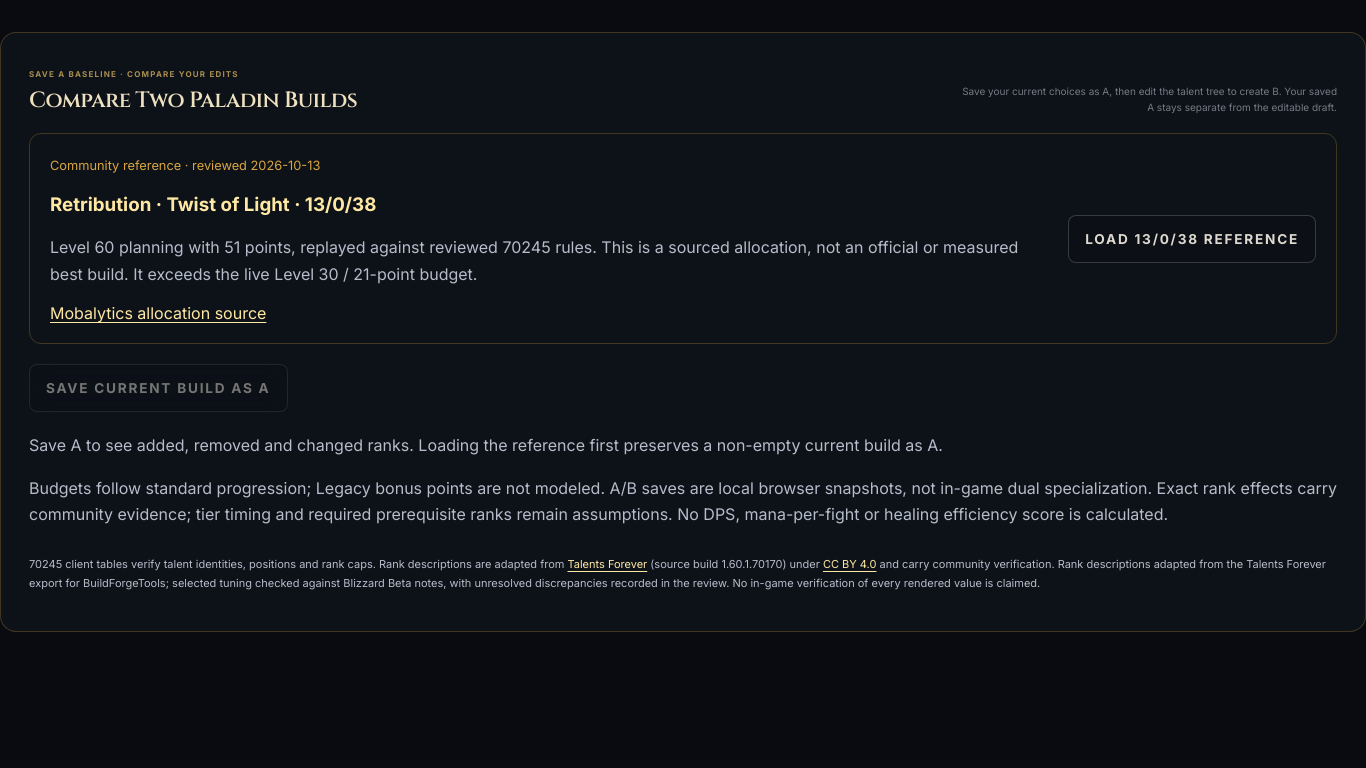
Test: does not re-label a reference whose reviewed dataset differs from the current tree
This screenshot has width=1366, height=768.
Click the button "Load 13/0/38 reference" at (1192, 239), box [1068,215,1316,263]
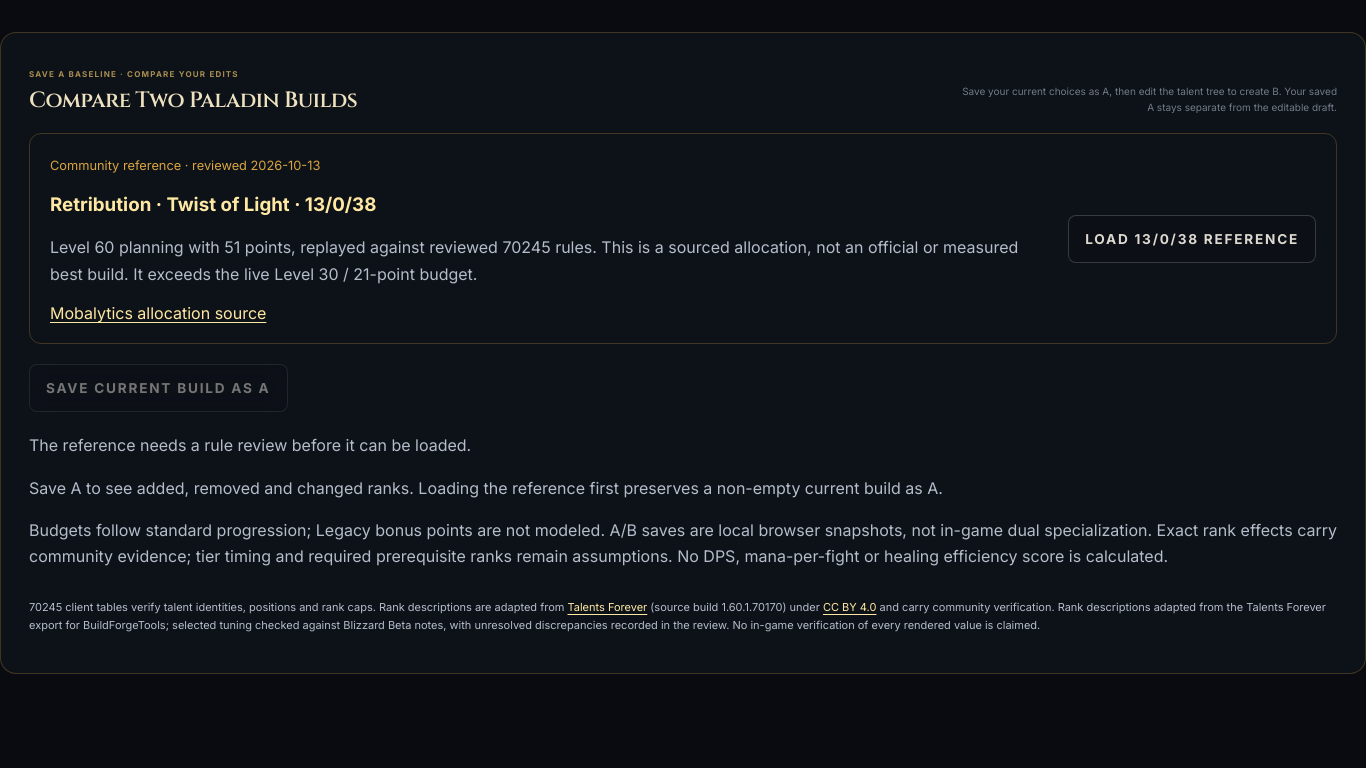
Expected: the text "The reference needs a rule review before it can be loaded." is shown, [29,435,471,455]
